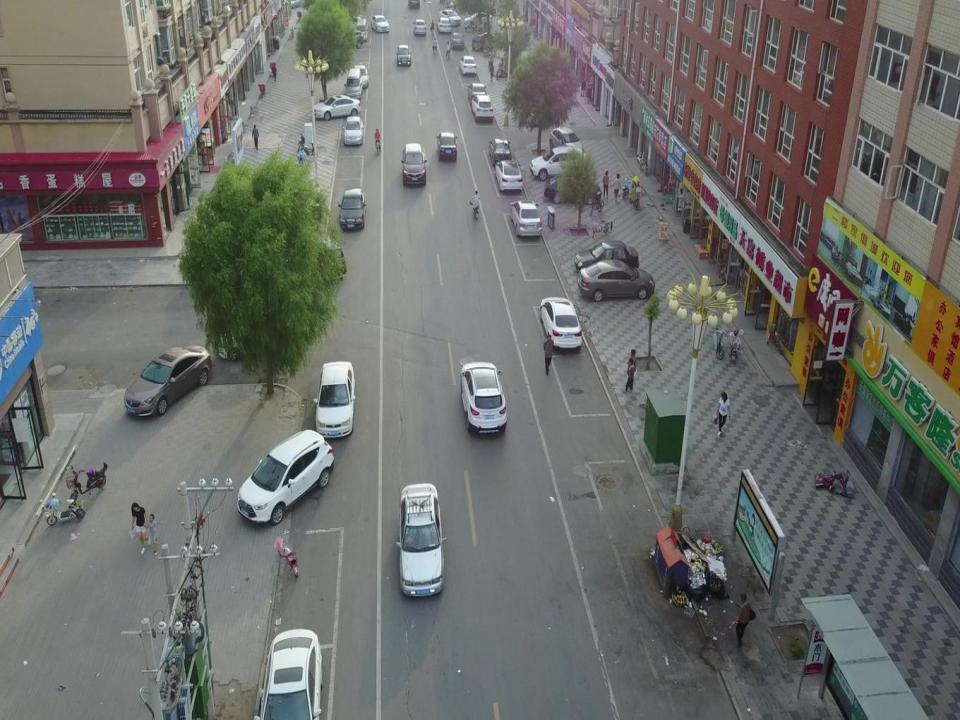car: (238, 428, 334, 524), (252, 628, 323, 720), (124, 344, 212, 416), (396, 482, 446, 597), (460, 361, 506, 435), (578, 259, 654, 302), (314, 360, 355, 439), (575, 237, 640, 275), (539, 298, 583, 348), (530, 146, 586, 181), (544, 174, 601, 204), (312, 94, 362, 121), (338, 187, 366, 231), (510, 199, 543, 236), (401, 143, 428, 185), (549, 126, 583, 159), (495, 159, 523, 193), (488, 138, 512, 166), (342, 116, 364, 145), (436, 132, 458, 161), (471, 94, 493, 123), (471, 31, 496, 51), (467, 82, 487, 106), (339, 30, 363, 49), (464, 12, 492, 28), (438, 8, 462, 26), (370, 14, 390, 32), (459, 56, 477, 76), (353, 65, 368, 88), (396, 44, 412, 65), (412, 19, 426, 36), (437, 17, 451, 34), (450, 32, 464, 48), (407, 0, 420, 10), (287, 0, 301, 8)
van: (345, 68, 362, 100), (356, 17, 368, 41)
